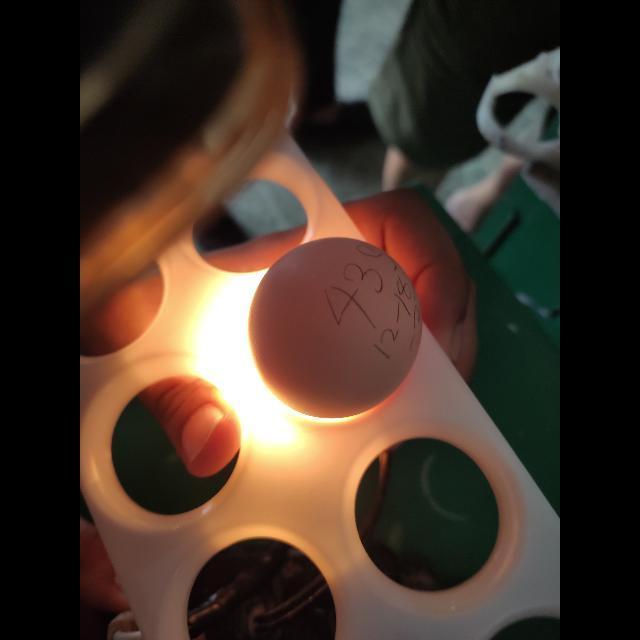Fertile: (242, 230, 430, 422)
